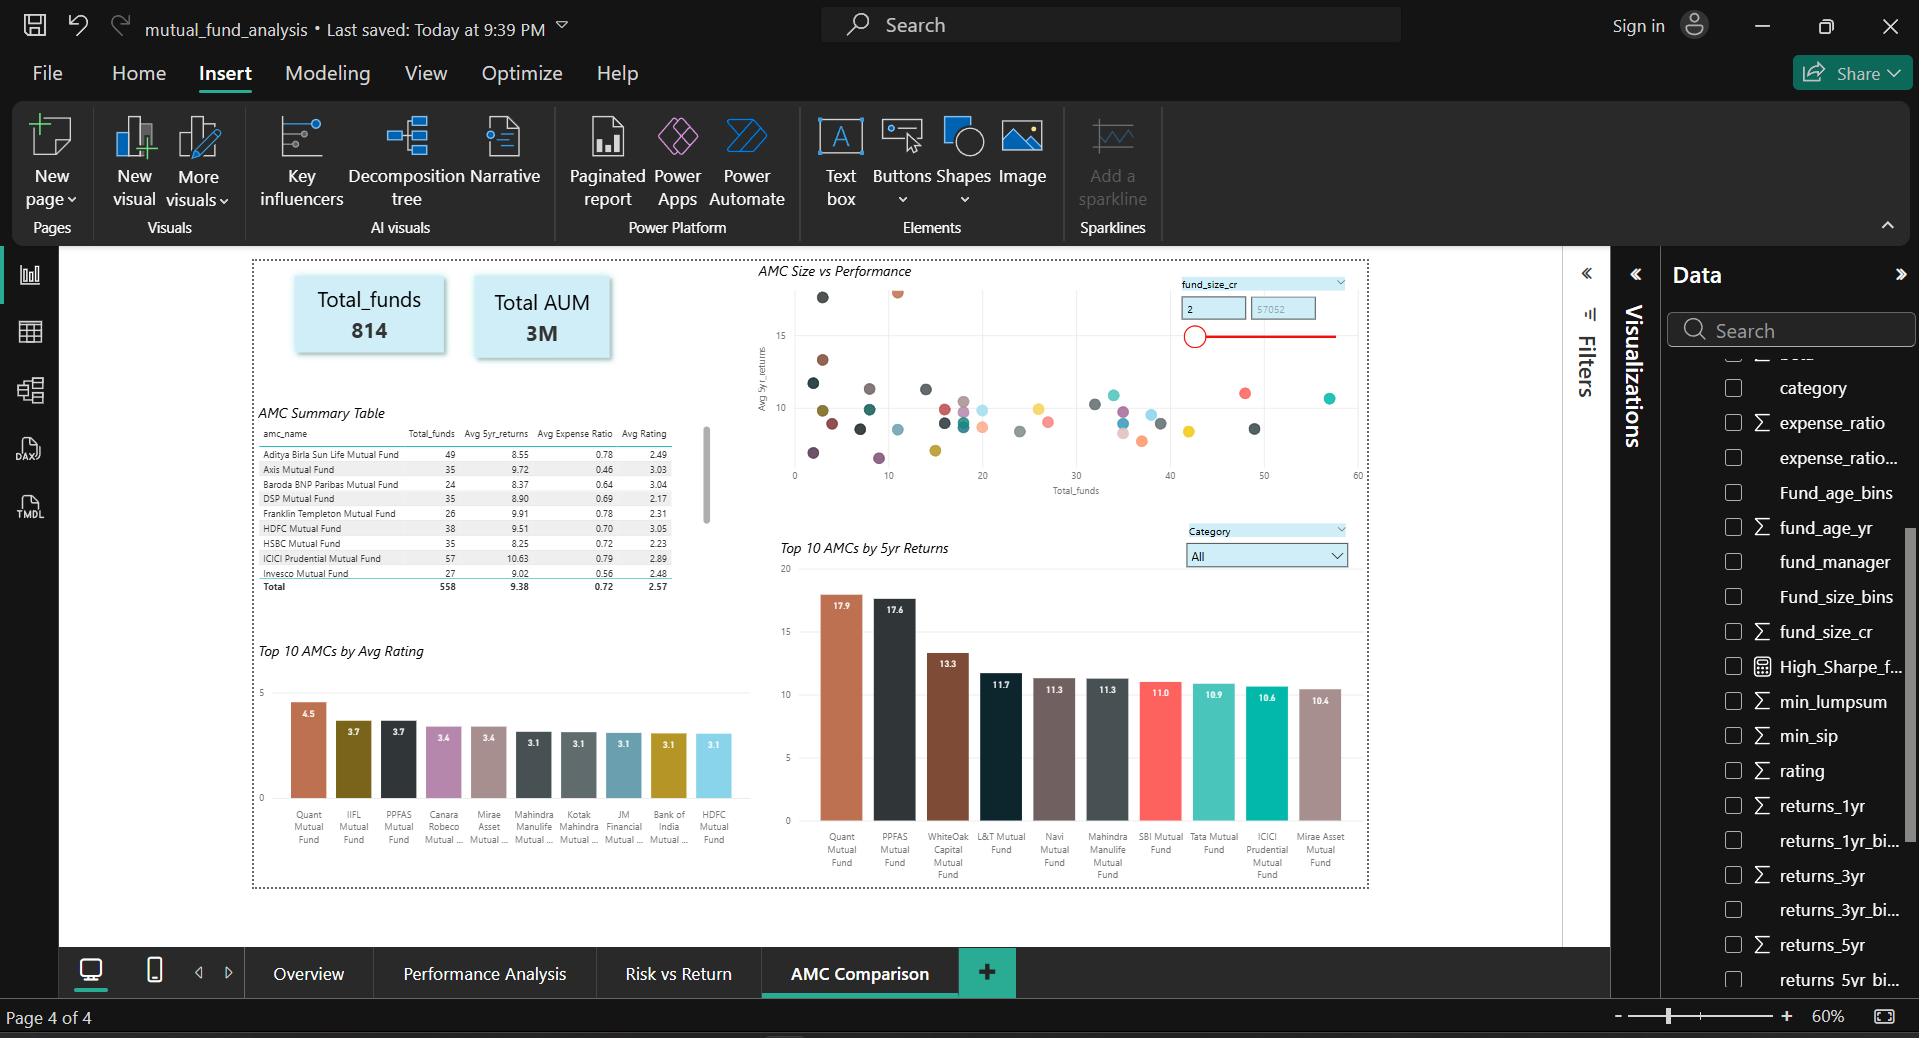

What the dashboard file says about the page in this screenshot:
{"tool":"powerbi","page":{"name":"AMC Comparison","canvas":[1280,720],"ordinal":3},"visuals":[{"type":"cardVisual","fields":{"Data":["comprehensive_mutual_funds_data.Total_funds"]},"box":[30.1,0,205.4,122.2],"z":0},{"type":"cardVisual","fields":{"Data":["comprehensive_mutual_funds_data.Total AUM"]},"box":[236.3,0,189.3,128.7],"z":1000},{"type":"columnChart","title":"Top 10 AMCs by 5yr Returns","fields":{"Category":["comprehensive_mutual_funds_data.amc_name"],"Y":["comprehensive_mutual_funds_data.Avg 5yr_returns"],"Series":["comprehensive_mutual_funds_data.amc_name"]},"box":[600.4,318.8,680.1,402],"z":2000},{"type":"columnChart","title":"Top 10 AMCs by Avg Rating","fields":{"Category":["comprehensive_mutual_funds_data.amc_name"],"Y":["comprehensive_mutual_funds_data.Avg Rating"],"Series":["comprehensive_mutual_funds_data.amc_name"]},"box":[0,436.2,575.5,243.8],"z":3000},{"type":"scatterChart","title":"AMC Size vs Performance","fields":{"X":["comprehensive_mutual_funds_data.Total_funds"],"Y":["comprehensive_mutual_funds_data.Avg 5yr_returns"],"Series":["comprehensive_mutual_funds_data.amc_name"]},"box":[575.6,0,704.9,276.3],"z":4000},{"type":"tableEx","title":"AMC Summary Table","fields":{"Values":["comprehensive_mutual_funds_data.amc_name","comprehensive_mutual_funds_data.Total_funds","comprehensive_mutual_funds_data.Avg 5yr_returns","comprehensive_mutual_funds_data.Avg Expense Ratio","comprehensive_mutual_funds_data.Avg Rating"]},"box":[0,163.6,530.1,222.6],"z":5000},{"type":"slicer","fields":{"Values":["comprehensive_mutual_funds_data.category"]},"box":[1061.6,296.8,206,63.6],"z":6000},{"type":"slicer","fields":{"Values":["comprehensive_mutual_funds_data.fund_size_cr"]},"box":[1054.1,13.6,213.5,93.9],"z":7000}]}

Visuals, with their boxes on the page's 1280x720 design canvas (x1, y1, x2, y2). These are canvas units, not pixel positions in the 1919x1038 screenshot, which may show the page scaled, cropped or inside an application window:
cardVisual - comprehensive_mutual_funds_data.Total_funds: 30:0:236:122
cardVisual - comprehensive_mutual_funds_data.Total AUM: 236:0:426:129
"Top 10 AMCs by 5yr Returns" columnChart: 600:319:1280:721
"Top 10 AMCs by Avg Rating" columnChart: 0:436:576:680
"AMC Size vs Performance" scatterChart: 576:0:1280:276
"AMC Summary Table" tableEx: 0:164:530:386
slicer - comprehensive_mutual_funds_data.category: 1062:297:1268:360
slicer - comprehensive_mutual_funds_data.fund_size_cr: 1054:14:1268:108
